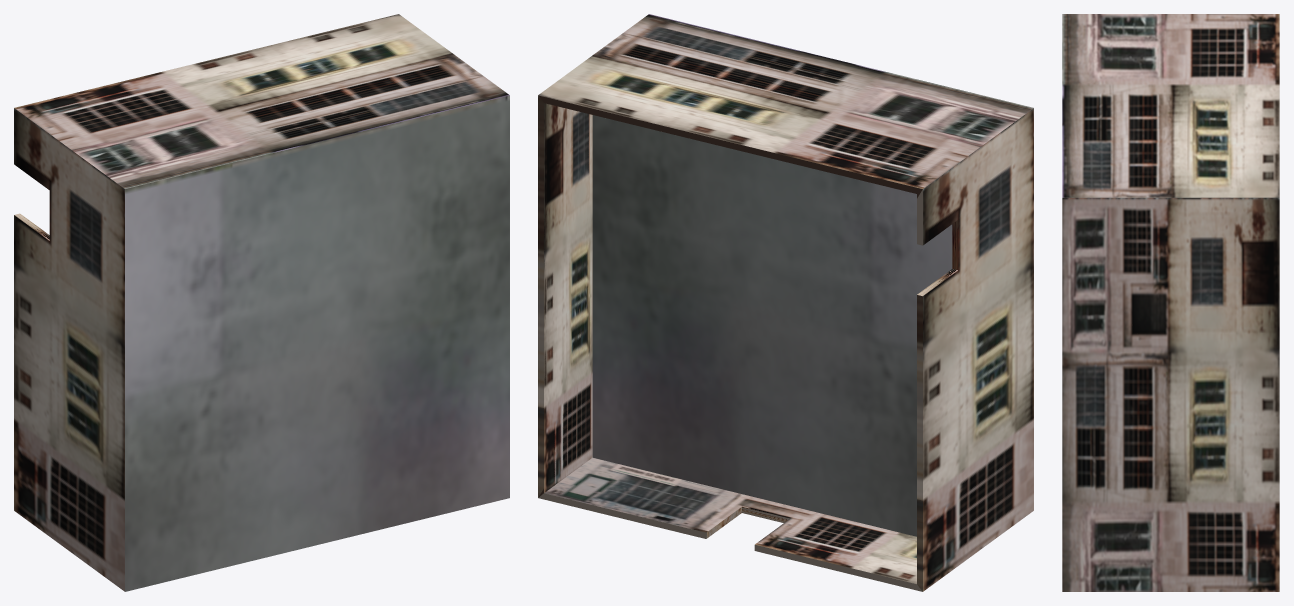
Rendered from 8x8SW_wtf.obj.
3 views of the same model, side by side, from view 1: azimuth 30°, elevation 25°; view 2: azimuth 150°, elevation 25°; view 3: azimuth 270°, elevation 25° (orthographic). The views are drawn at different scales.
Parts seen in each view (by area): view 1: group3; view 2: group3, group4; view 3: group3.
Part boxes in pixels (<box>): group3: <box>14,14,509,591</box>; group3: <box>538,14,1033,591</box>; group4: <box>544,103,590,492</box>; group3: <box>1062,14,1279,591</box>.
Bounding box in the file's own units: 660 × 660 × 330.
